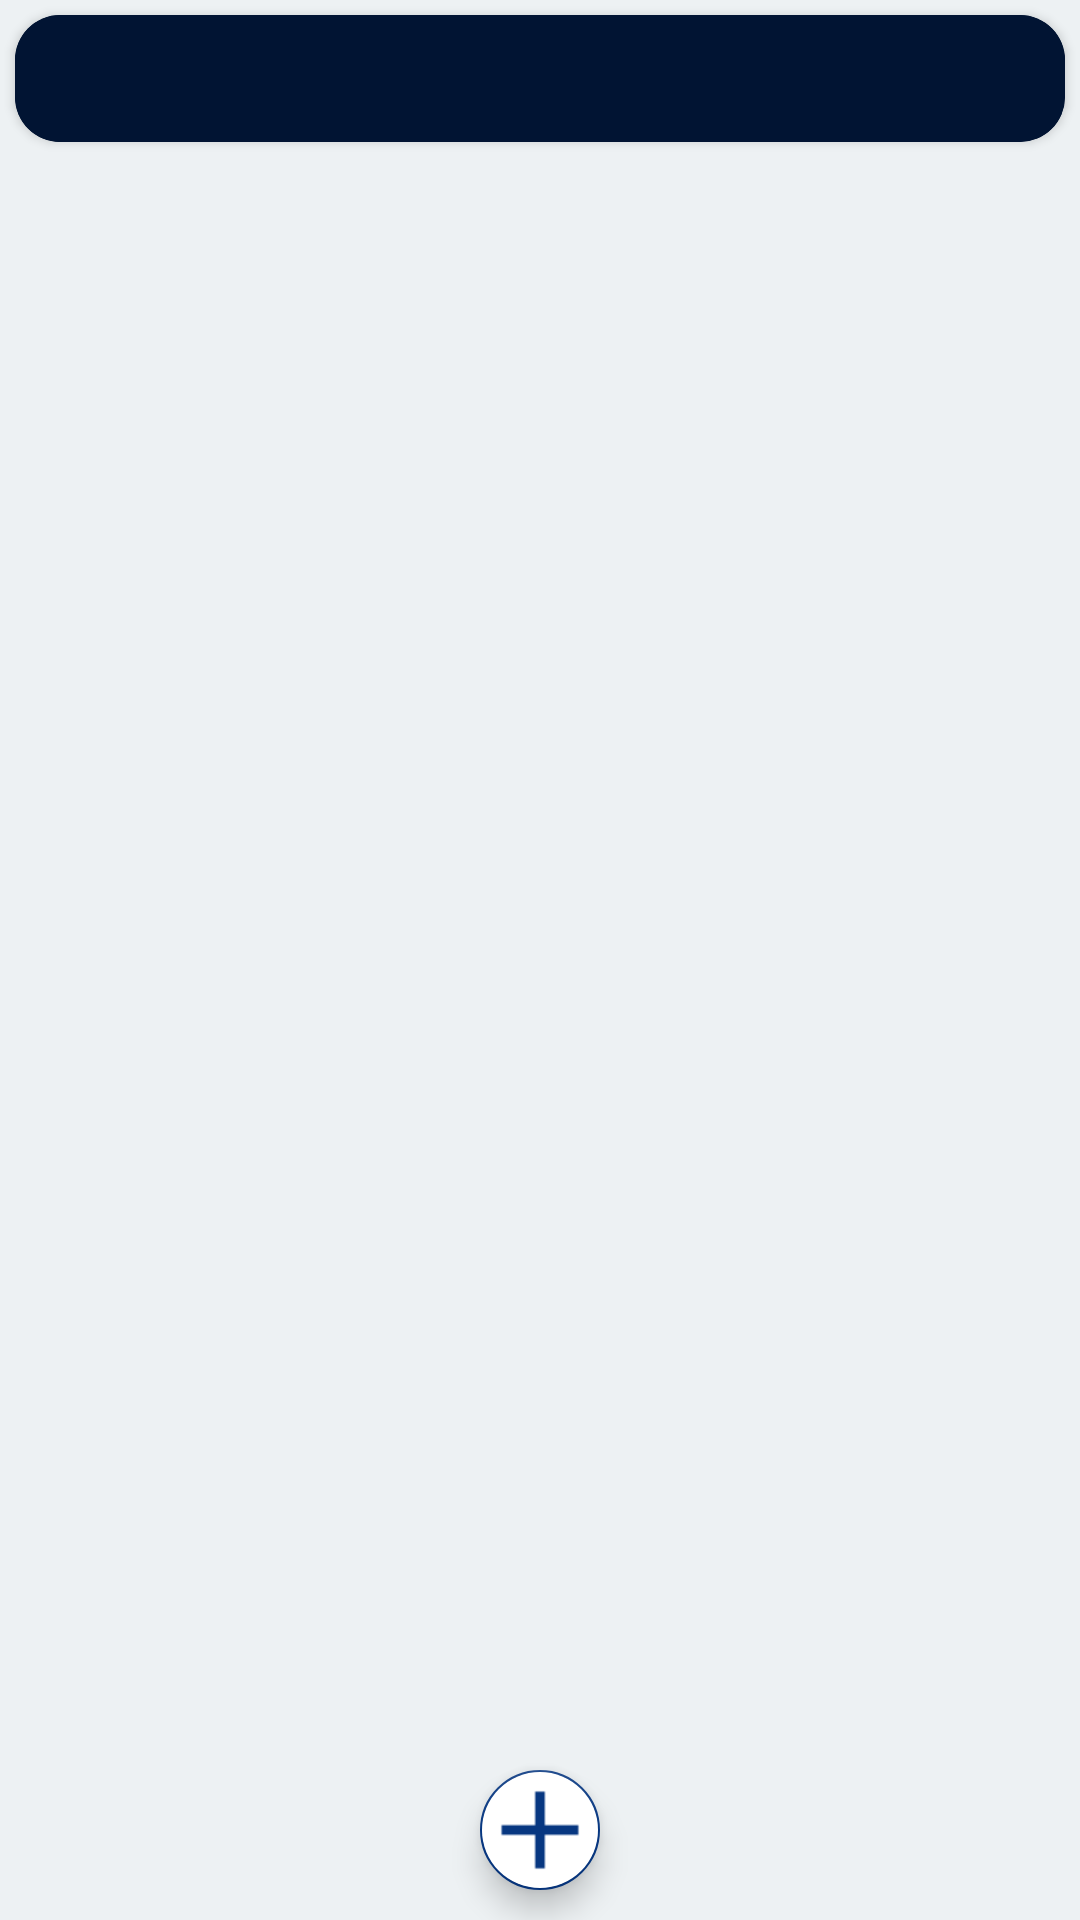

Named icons in this screenshot (1080 × 1920) and their bounding boxes, {"left": x1, "top": y1, "right": x2, "bottom": y2}:
addauth: {"left": 480, "top": 1770, "right": 600, "bottom": 1890}
